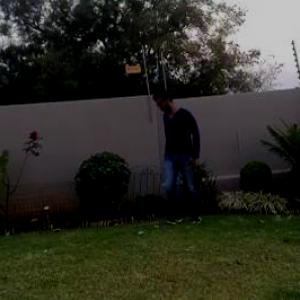follow: (159, 87, 204, 227)
